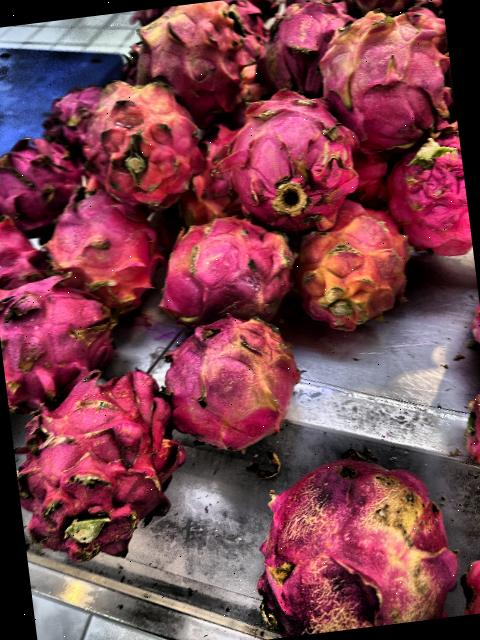buah-naga-belum-matang: (240, 422, 458, 639), (157, 301, 295, 444), (318, 9, 450, 150), (79, 74, 205, 200), (302, 215, 416, 332), (131, 1, 242, 112)
buah-naga-matang: (10, 358, 191, 572), (217, 84, 359, 226), (158, 208, 290, 326), (47, 183, 167, 312), (0, 274, 117, 399), (384, 132, 474, 272), (257, 0, 337, 97), (0, 134, 84, 225), (40, 78, 104, 138), (0, 214, 47, 285)
